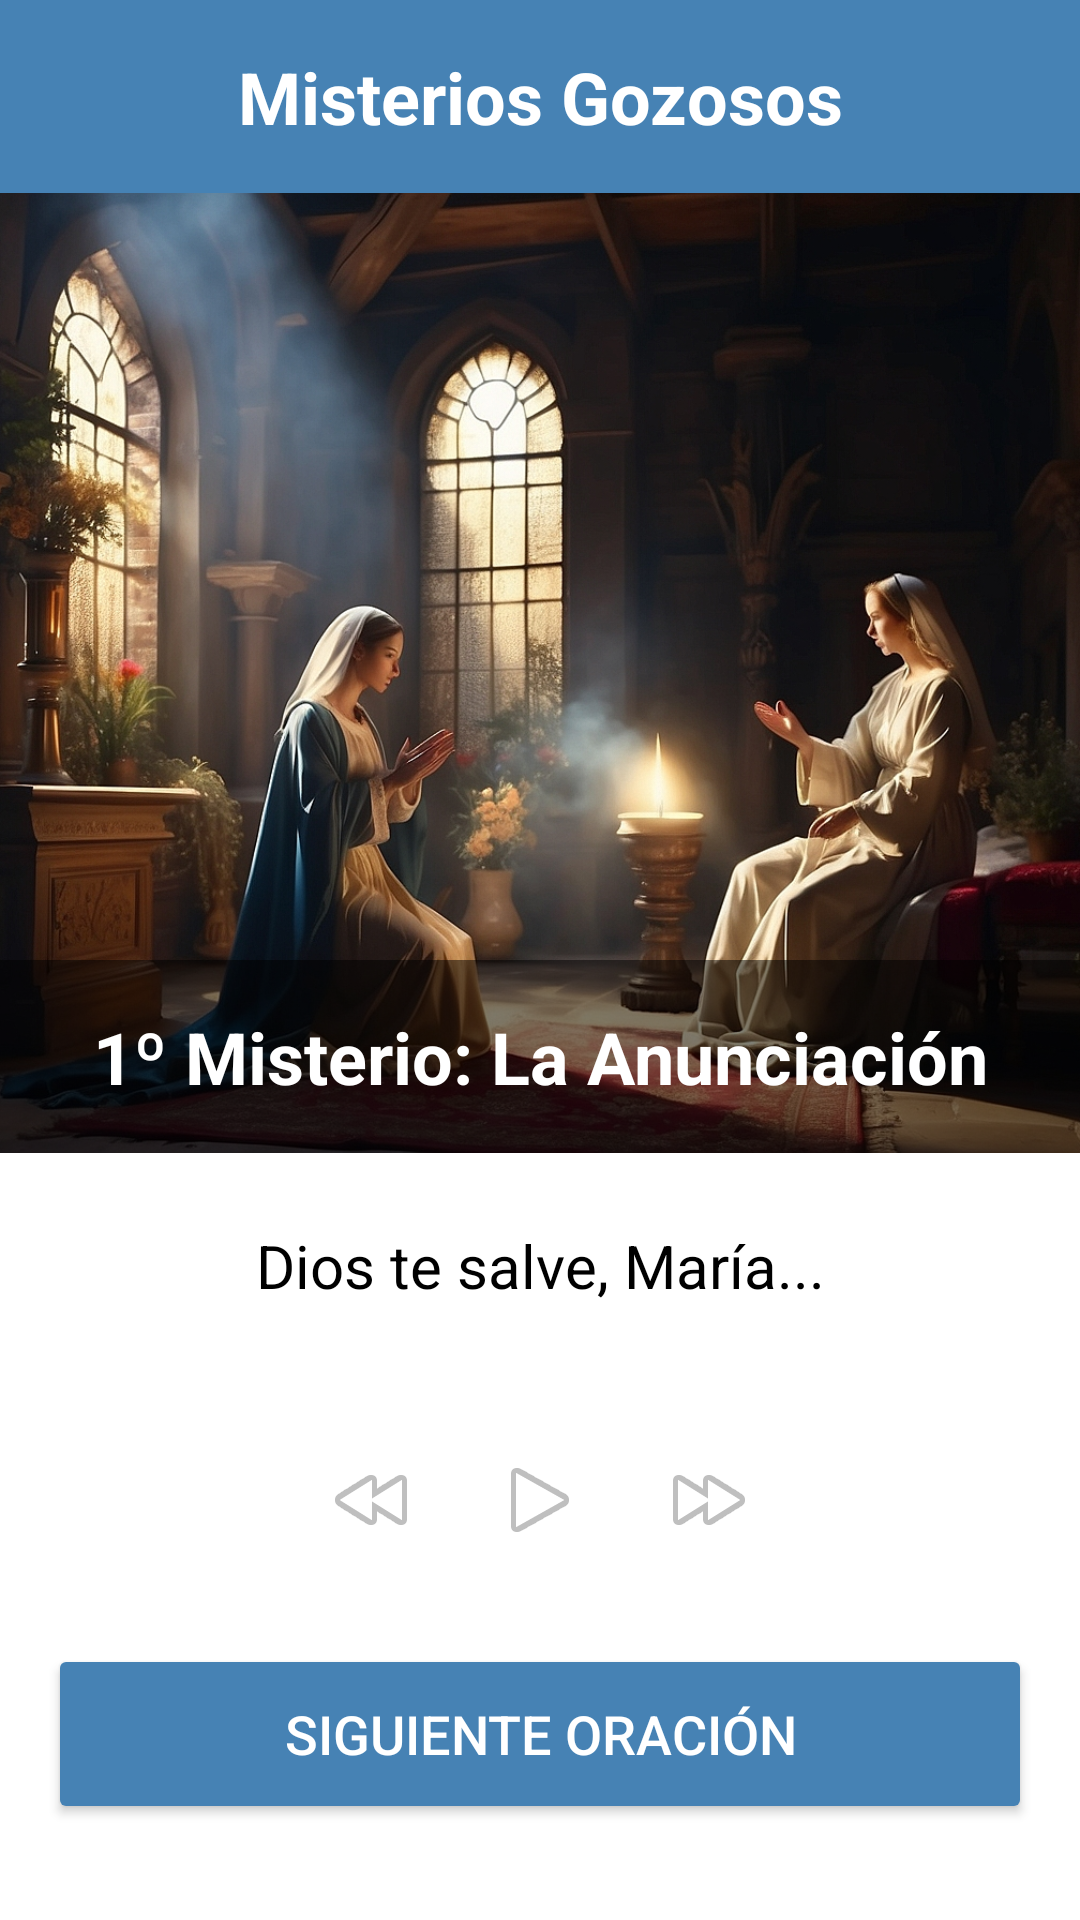

Point at icon controls on the screen. Image size 1080w x 1920h, points as (x=x, y=y).
Avanzar: (x=709, y=1500)
Rebobinar: (x=371, y=1500)
Reproducir/Pausar: (x=540, y=1500)
